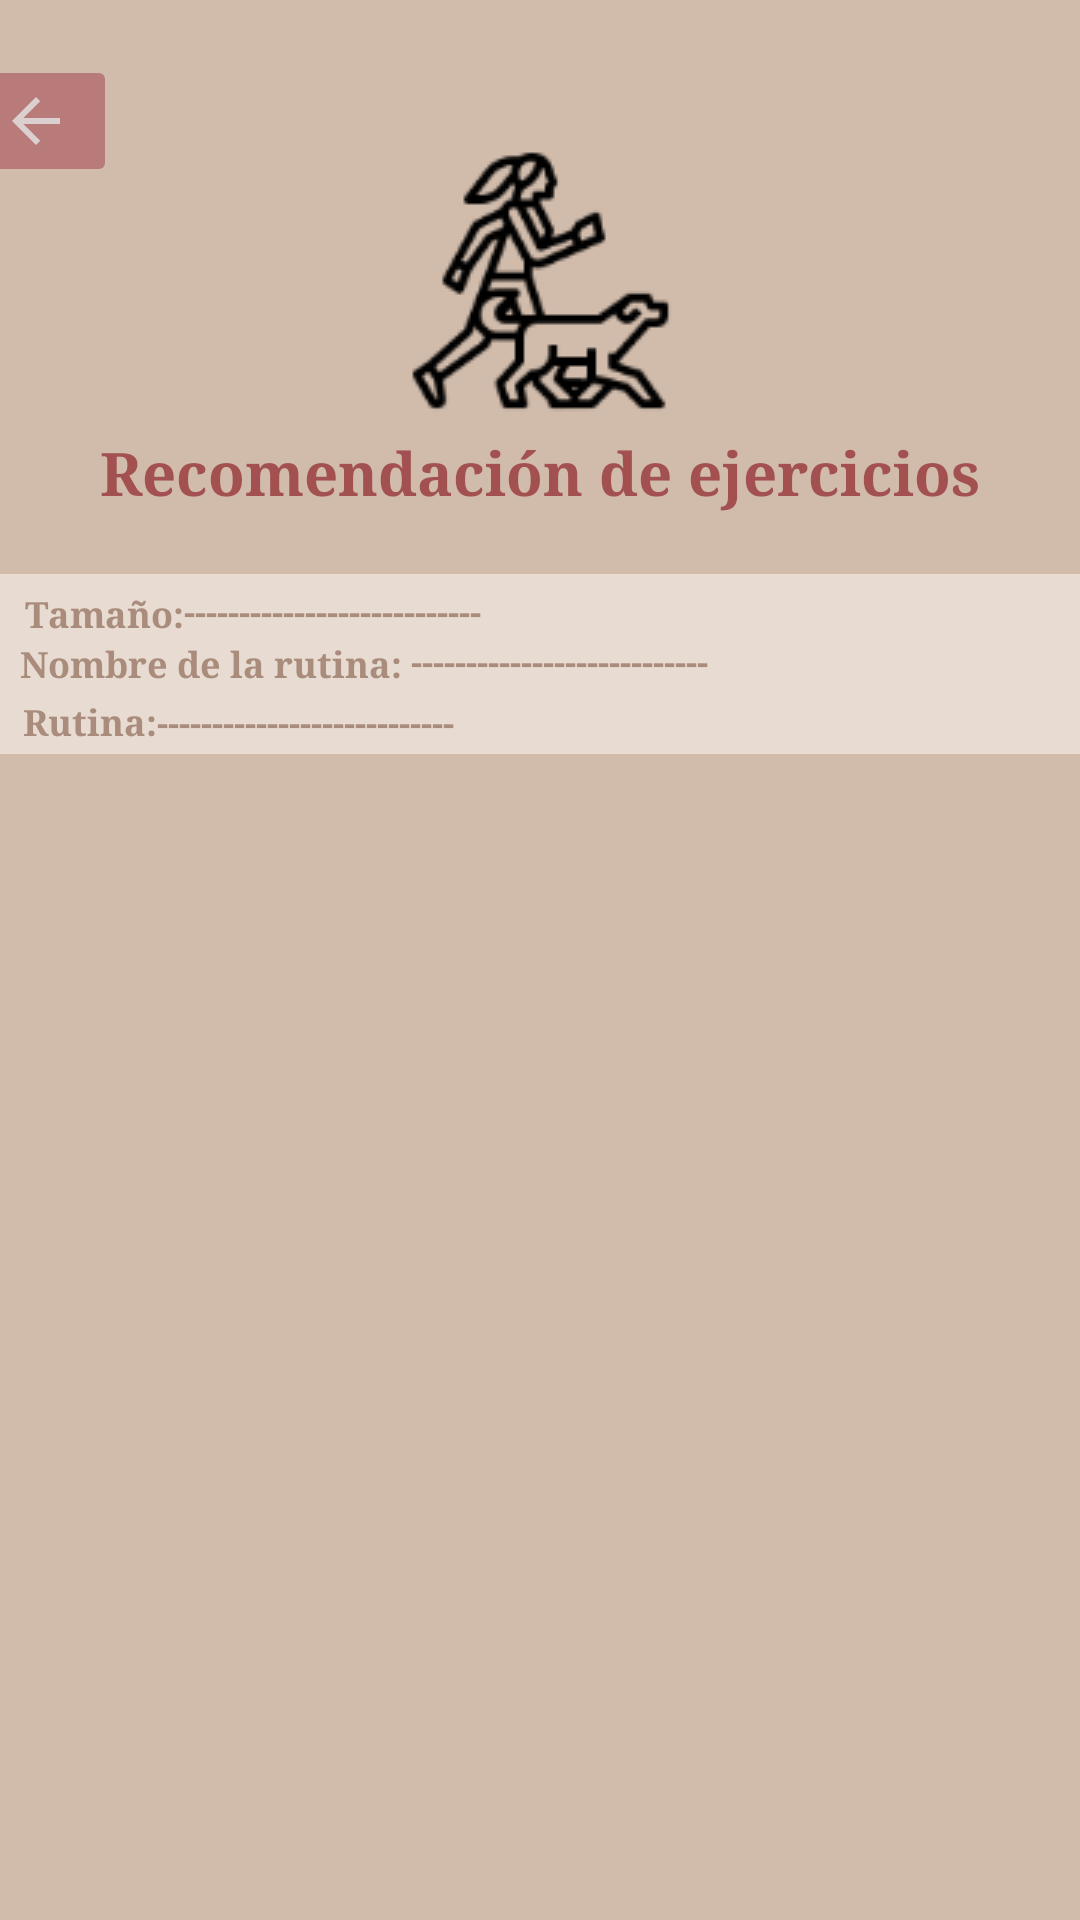

Screen size 1080px x 1920px. Icon name, then its box in pixels as (left=x1, top=y1, right=x2, bottom=y2):
execiseicon: (left=412, top=152, right=669, bottom=409)
